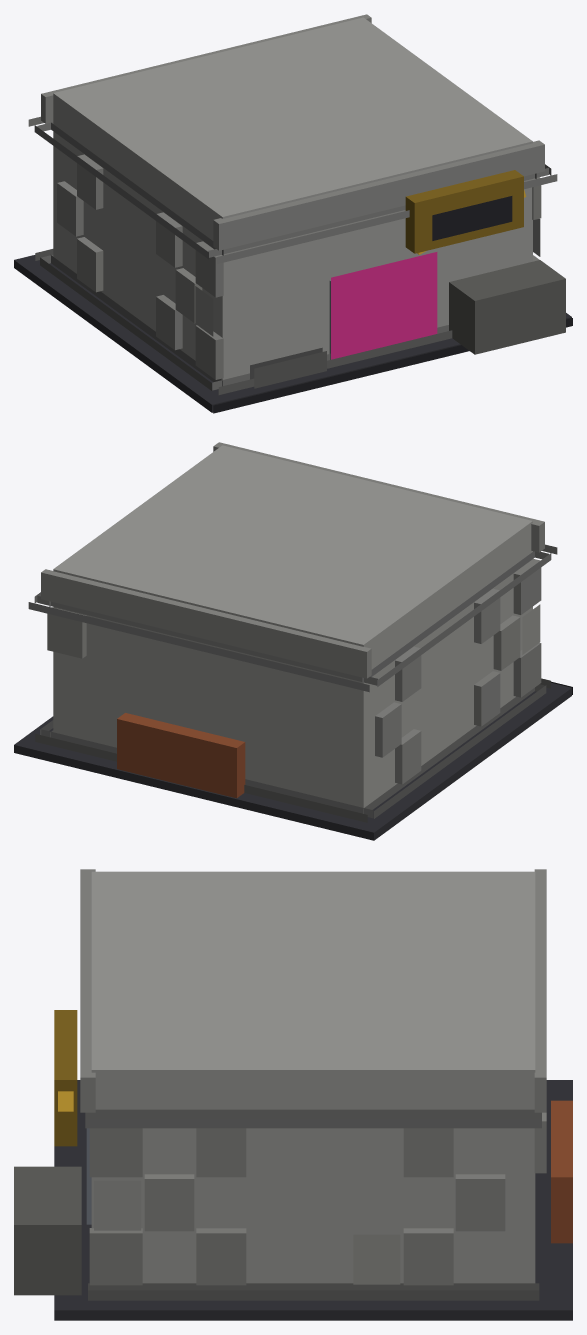
File: CheeseSkaterSil.fbx
3 renders of one model, top to bottom at view 1: azimuth 30°, elevation 25°; view 2: azimuth 150°, elevation 25°; view 3: azimuth 270°, elevation 25°, orthographic. The views are drawn at different scales.
Visible parts, largest first — view 1: SK_S_All; view 2: SK_S_All; view 3: SK_S_All.
Part boxes in pixels (x1=…): SK_S_All: x1=14, y1=14, x2=572, y2=413; SK_S_All: x1=14, y1=442, x2=572, y2=840; SK_S_All: x1=14, y1=869, x2=572, y2=1320.
Bounding box in the file's own units: 42.04 × 20 × 43.14.
